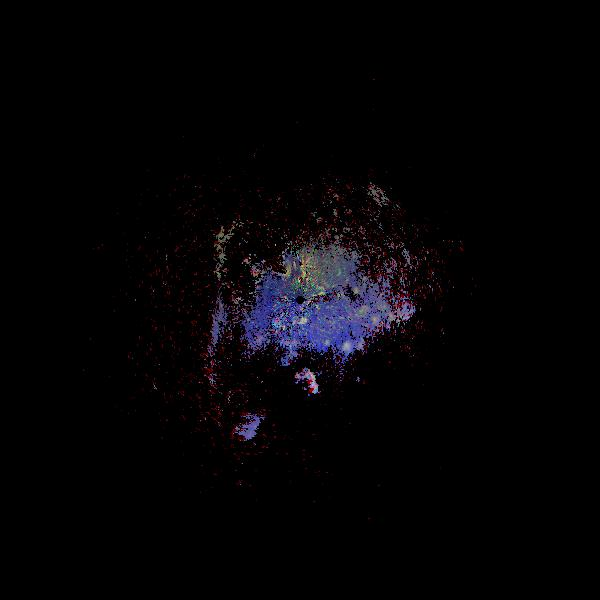roost: (365, 256, 428, 319), (282, 359, 333, 410)
